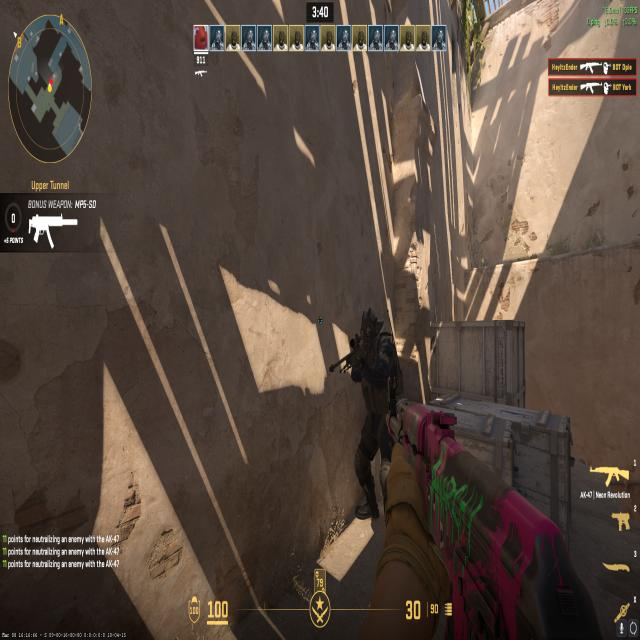ct: (339, 294, 403, 521)
